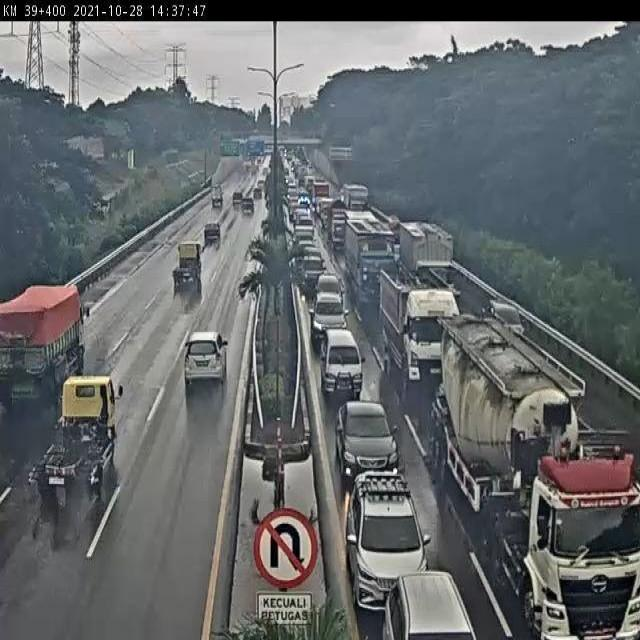big truck: (439, 297, 640, 640), (0, 268, 124, 405), (386, 276, 472, 415), (350, 224, 399, 305)
car: (336, 467, 438, 608), (379, 560, 479, 640), (327, 399, 417, 484), (314, 324, 377, 401), (406, 224, 461, 299), (468, 291, 533, 353), (177, 327, 234, 396), (305, 294, 362, 349), (202, 208, 233, 256), (312, 272, 352, 309), (298, 253, 330, 283), (301, 244, 326, 271), (229, 180, 246, 208), (239, 196, 257, 219), (297, 238, 322, 254), (252, 174, 269, 190), (251, 184, 264, 204)
small truck: (18, 367, 178, 520), (159, 232, 211, 307), (207, 170, 226, 214)
